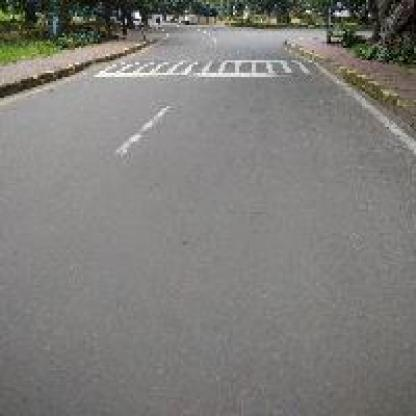Speed Bump: (89, 56, 335, 77)
